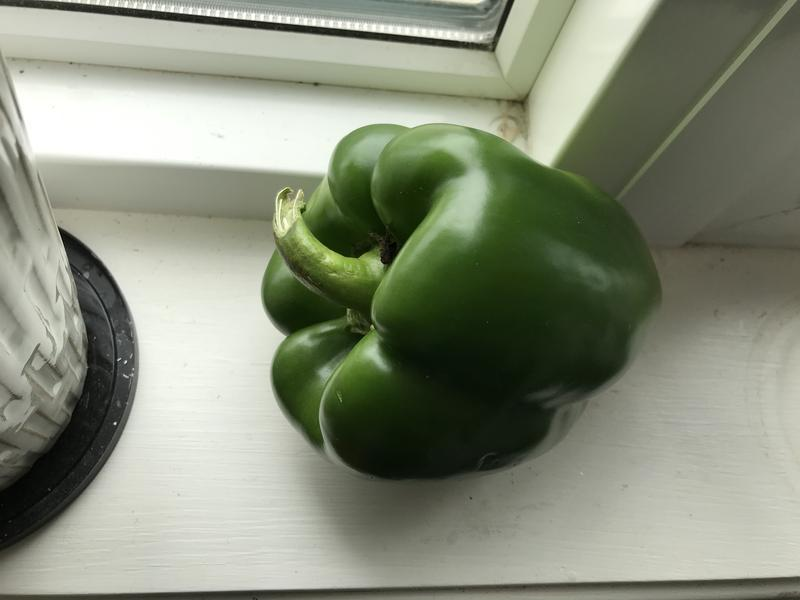green_pepper: (251, 110, 674, 500)
